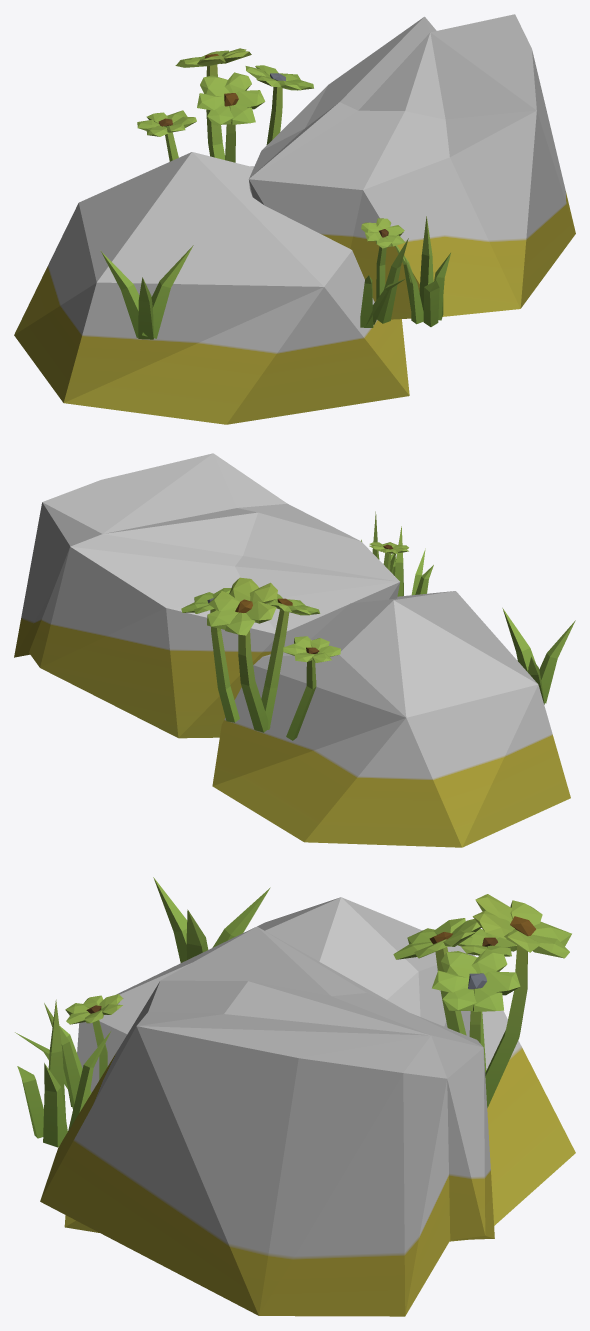
The model's file is Rock_10.fbx.
3 renders of one model, top to bottom at view 1: azimuth 30°, elevation 25°; view 2: azimuth 150°, elevation 25°; view 3: azimuth 270°, elevation 25°, orthographic. The views are drawn at different scales.
Visible parts, largest first — view 1: Rock_10; view 2: Rock_10; view 3: Rock_10.
Boxes of the visible parts, bbox=[...] form: Rock_10: bbox=[14, 14, 575, 424]; Rock_10: bbox=[14, 453, 575, 847]; Rock_10: bbox=[15, 877, 575, 1316].
Size of the model in its own units: 3.16 by 1.31 by 2.18.
